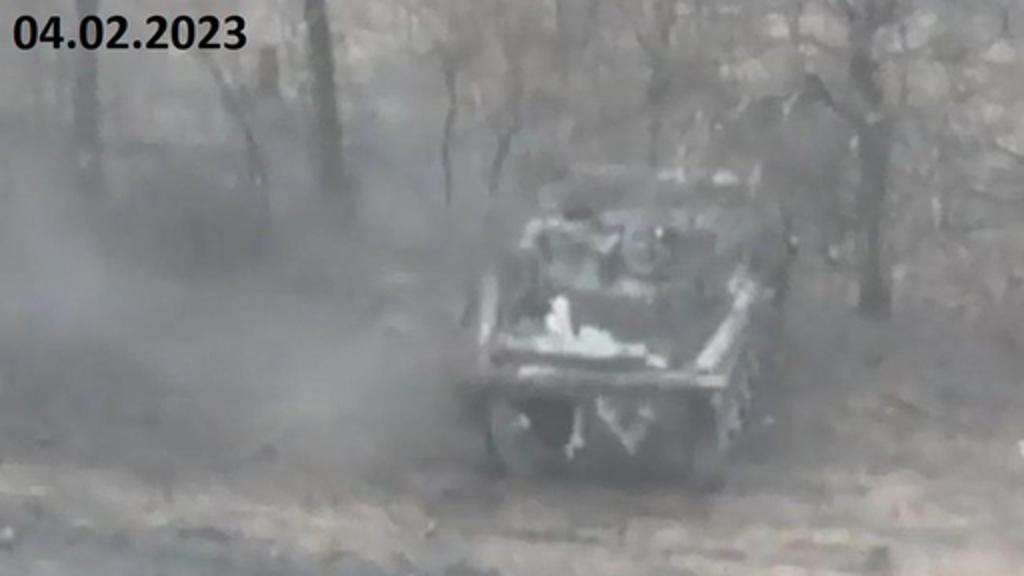APC-IFV: (454, 142, 792, 480)
